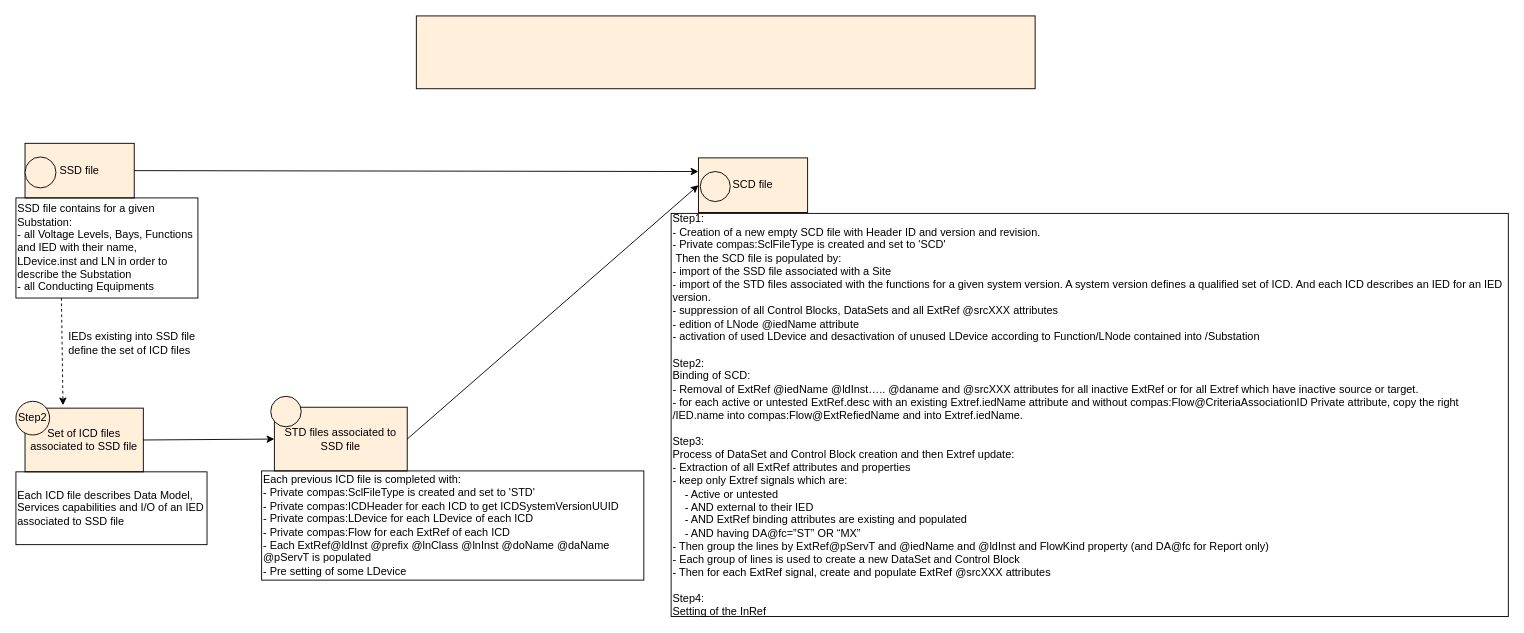
Image size: 1524x633. Some labels were removed from this diagram. Here are the shapes that lost their labels. From the top down, the centre of each, then its label:
At pixel 725 52: "Automated generation and setting of SCD file".
At pixel 40 172: "Step1".
At pixel 714 186: "Step4".
At pixel 285 411: "Step3".
